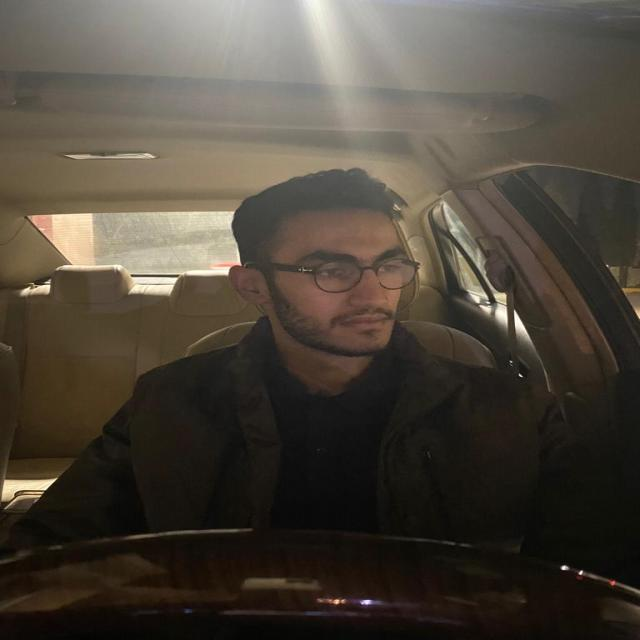person: (225, 164, 440, 375)
